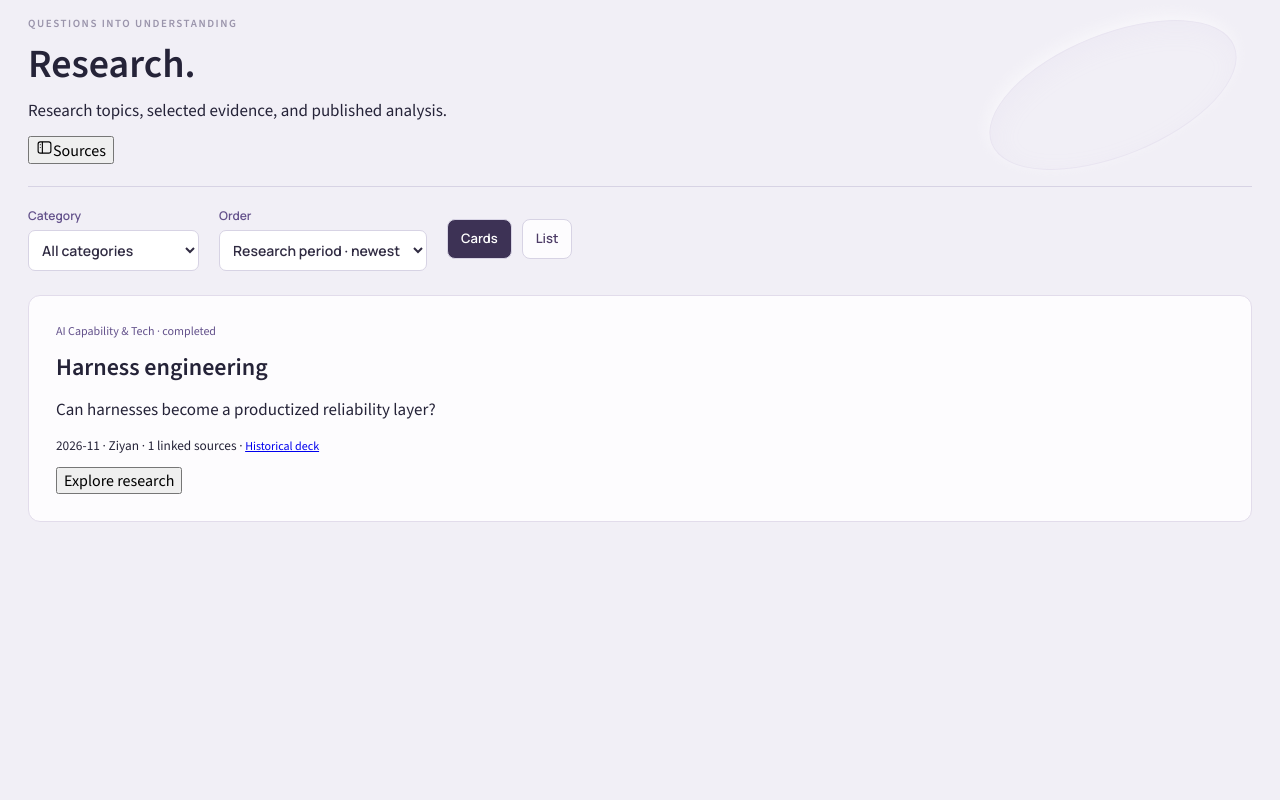
research library preserves historical knowledge › shows existing outputs without rendering unsafe link schemes
Click the button "Explore research" at (119, 481), box [56, 467, 182, 494]
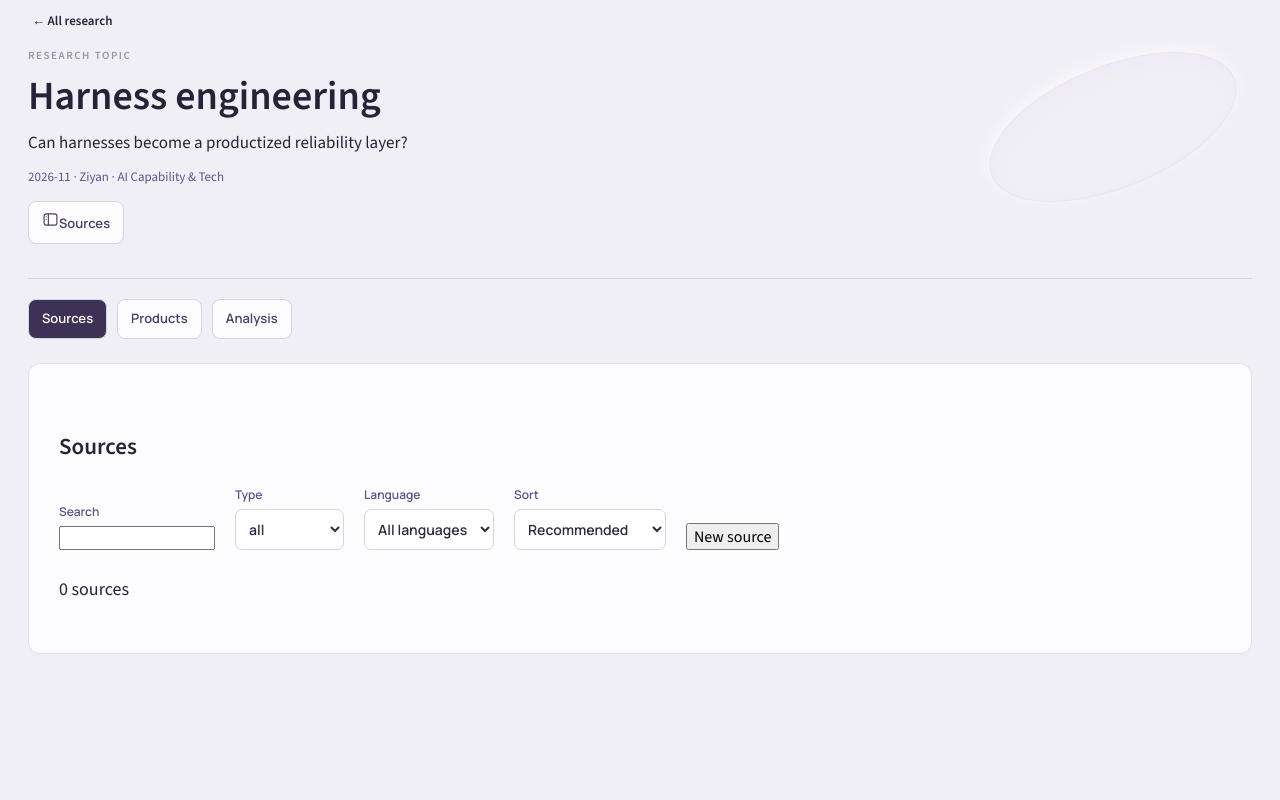
Click the button "Analysis" at (252, 318), box [212, 298, 292, 338]
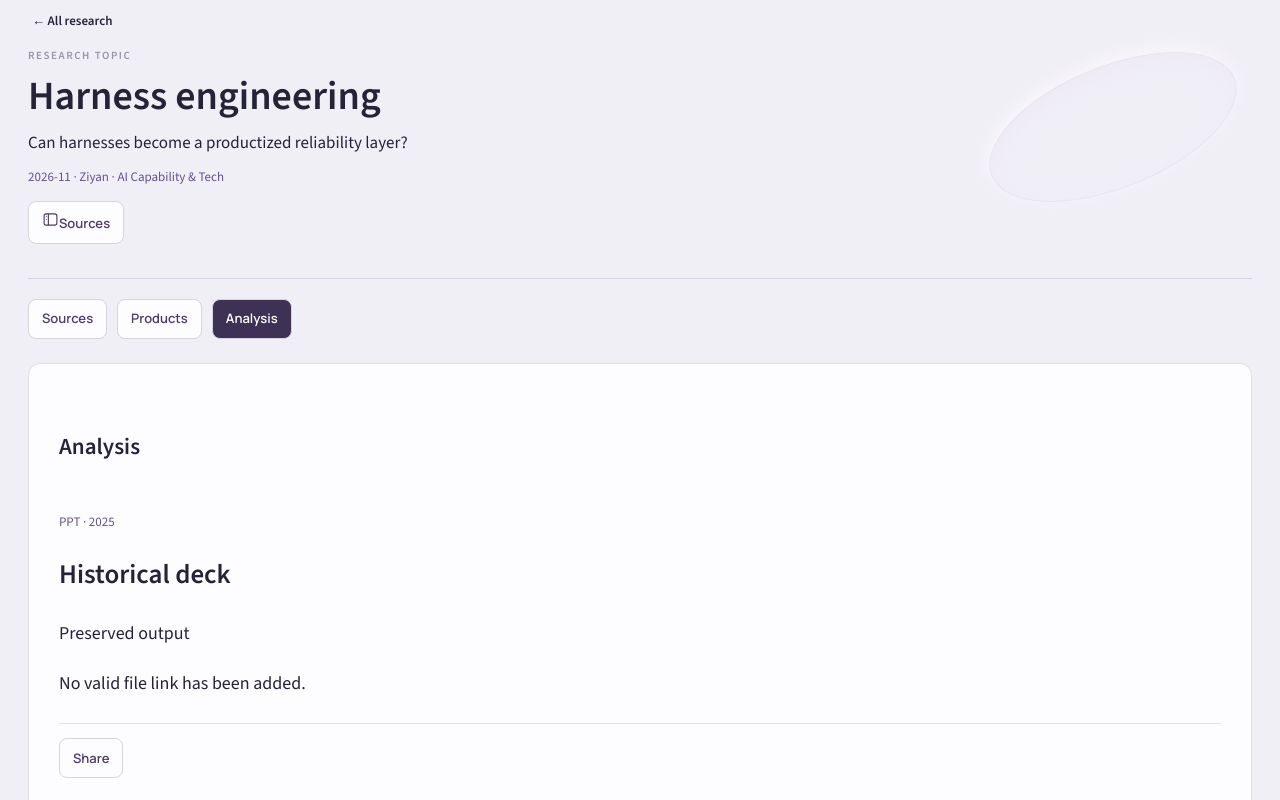
Now the heading "Historical deck" is shown, box [59, 556, 231, 592]
